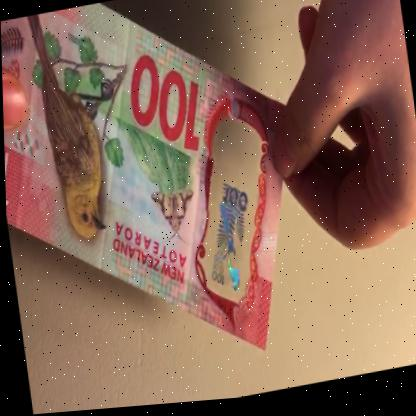100B: (196, 164, 259, 311)
